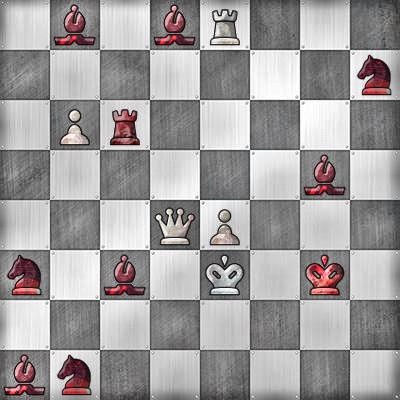black-bishop: (50, 0, 100, 50), (150, 0, 200, 50), (300, 150, 350, 200), (100, 250, 150, 300), (0, 350, 50, 400)
black-king: (300, 250, 350, 300)
black-knight: (350, 50, 400, 100), (0, 250, 50, 300), (50, 350, 100, 400)
black-rook: (100, 100, 150, 150)
white-king: (200, 250, 250, 300)
white-pawn: (50, 100, 100, 150), (200, 200, 250, 250)
white-queen: (150, 200, 200, 250)
white-rook: (200, 0, 250, 50)
